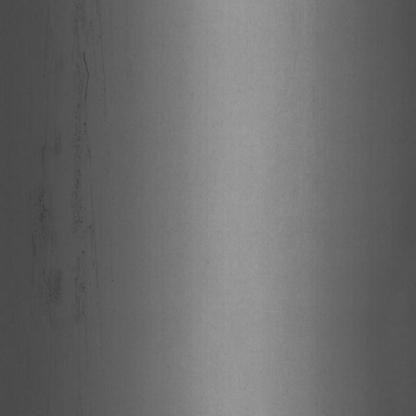inclusion: (30, 42, 62, 326)
water_spot: (68, 10, 108, 318)
